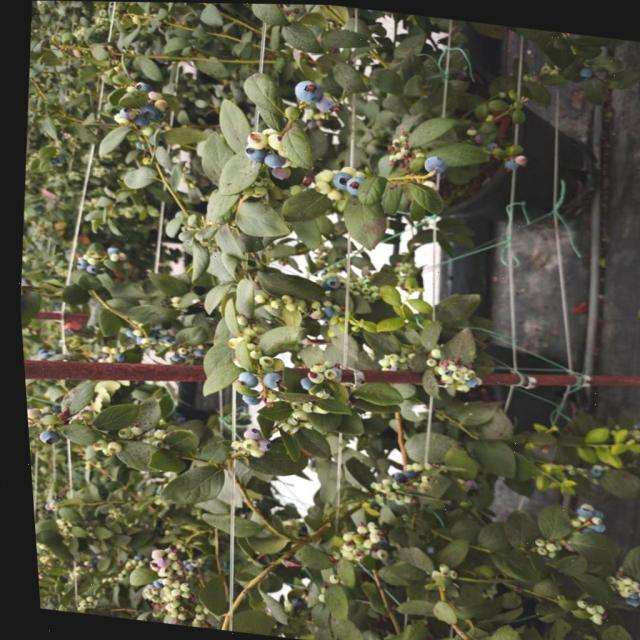RipeBlueBerry: (291, 76, 321, 103), (253, 368, 282, 395), (242, 144, 263, 160)
UnripeBlueBerry: (228, 370, 252, 390), (248, 350, 273, 368), (310, 180, 326, 194)
